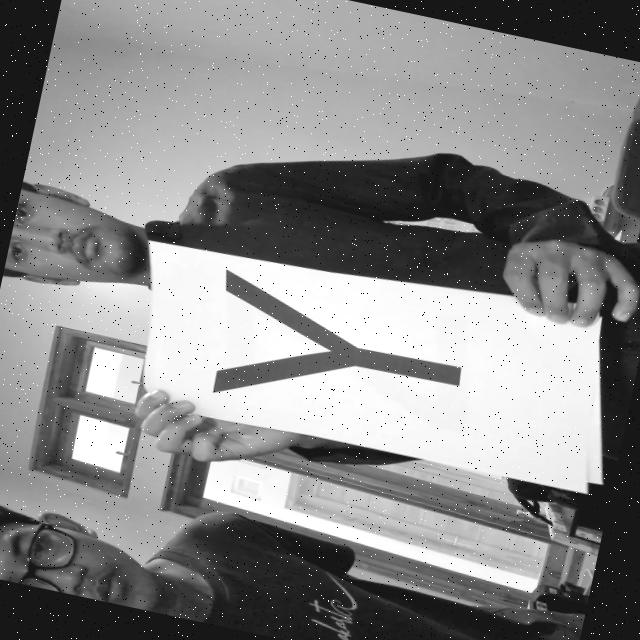y: (188, 254, 485, 449)
